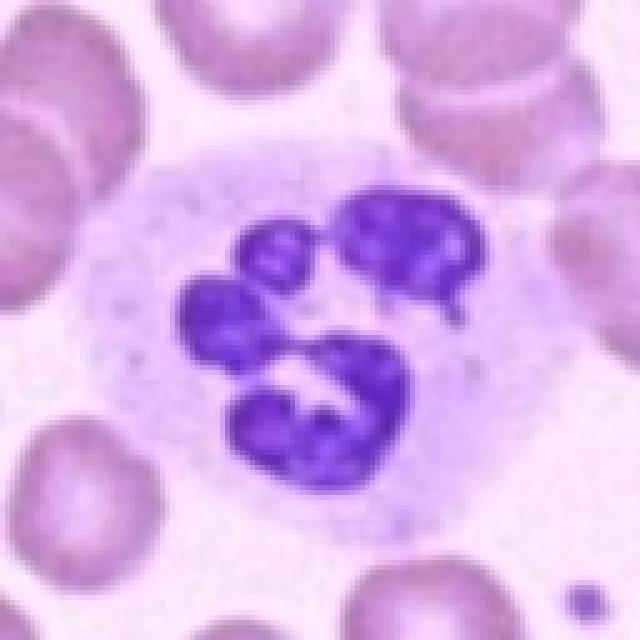neutro: (87, 119, 498, 489)
